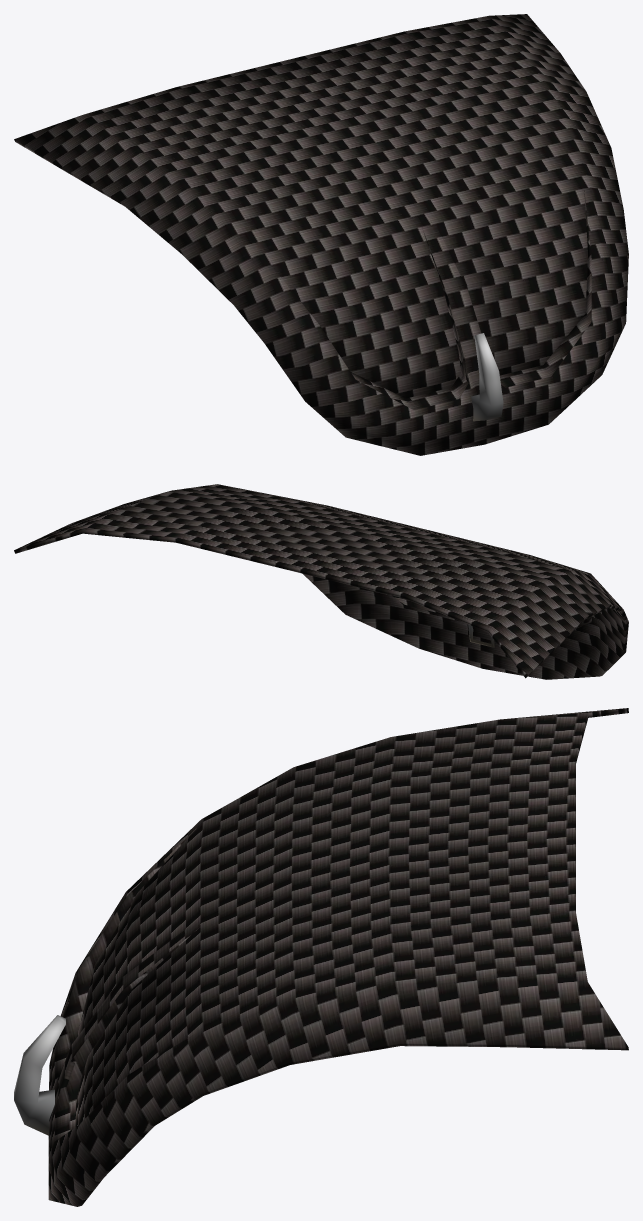
The model's file is Car1CarbonPart.fbx.
The picture shows the model from 3 angles, top to bottom: view 1: azimuth 30°, elevation 25°; view 2: azimuth 150°, elevation 25°; view 3: azimuth 270°, elevation 25°; orthographic projection. The views are drawn at different scales.
Visible parts, largest first — view 1: CarbonPart.002; view 2: CarbonPart.002; view 3: CarbonPart.002.
Boxes of the visible parts, box(x1,y1,x2,y2) form: CarbonPart.002: box(14, 14, 628, 455); CarbonPart.002: box(14, 484, 628, 679); CarbonPart.002: box(14, 708, 628, 1206).
Size of the model in its own units: 1.59 by 0.717 by 1.21.
Materials: 2 (2 with a texture image).
